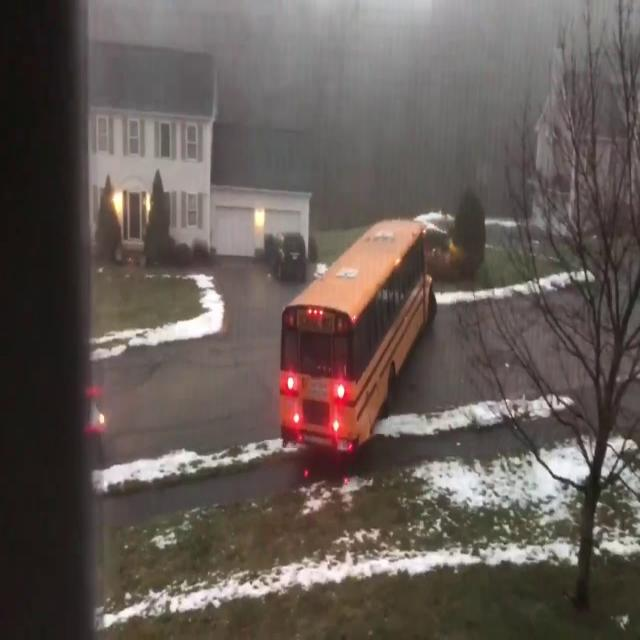BUS: (248, 204, 438, 488)
